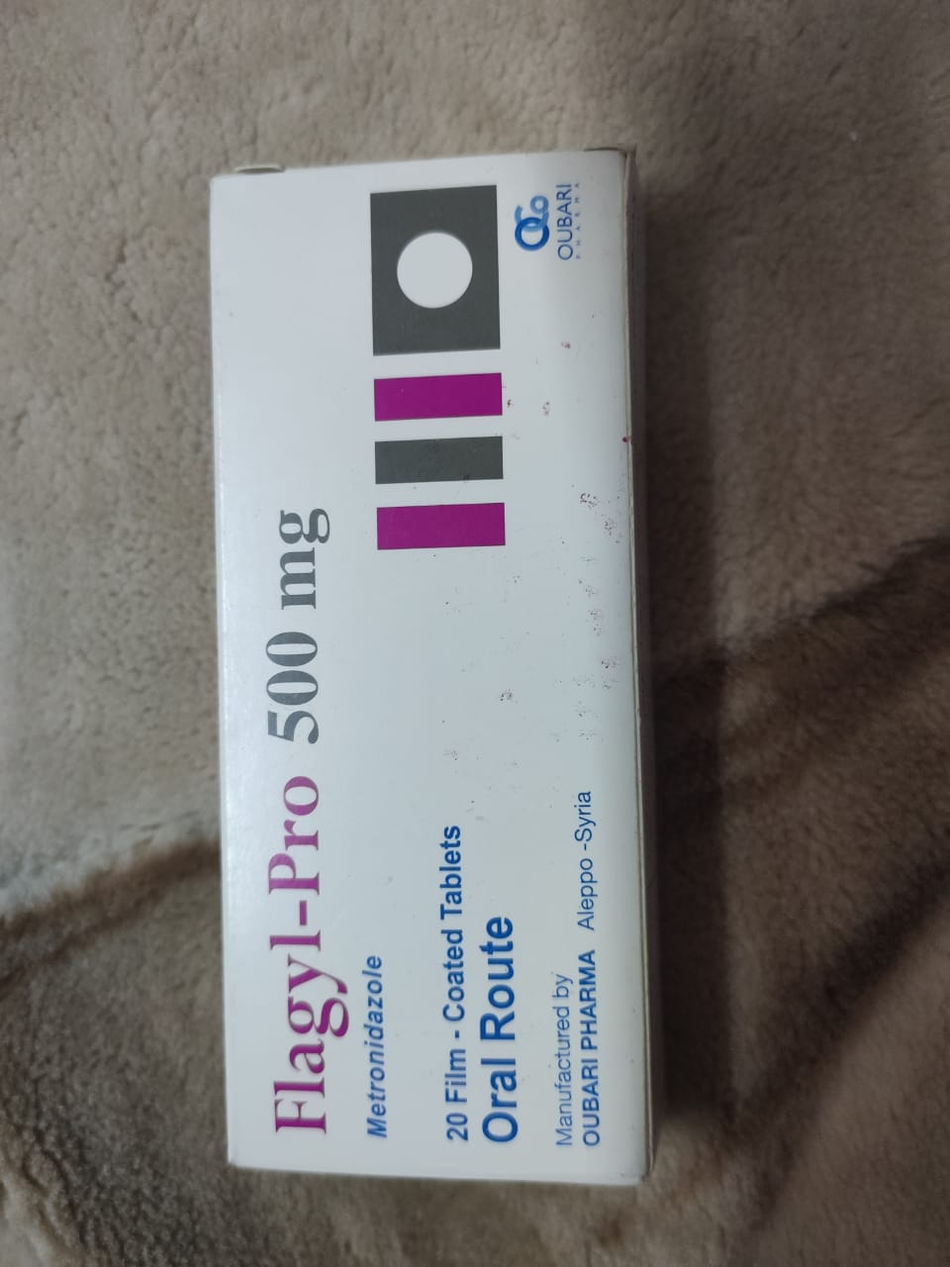Medicine: (195, 135, 670, 1214)
